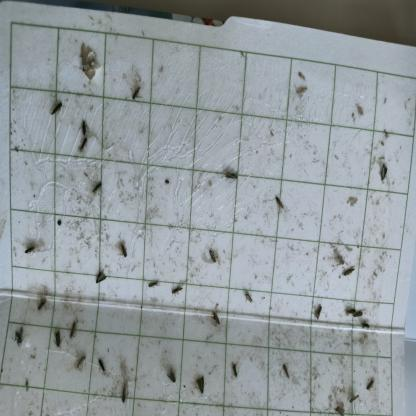prays_oleae: (74, 35, 102, 83), (309, 294, 330, 332), (89, 164, 108, 204), (162, 361, 181, 397), (92, 263, 110, 296), (338, 257, 360, 283), (127, 82, 146, 110), (74, 343, 88, 378), (20, 239, 38, 264), (222, 167, 240, 192), (280, 350, 295, 380), (50, 94, 65, 122), (210, 300, 224, 330), (376, 160, 391, 188), (33, 295, 51, 317), (75, 137, 90, 163), (117, 374, 129, 406), (144, 273, 161, 295), (66, 316, 80, 342), (331, 391, 346, 415), (10, 324, 24, 349), (241, 286, 256, 309), (205, 245, 223, 264), (192, 373, 208, 394), (76, 118, 91, 140), (117, 235, 129, 262), (272, 189, 284, 216), (168, 281, 182, 304), (50, 330, 64, 352), (229, 356, 240, 382), (96, 354, 108, 376), (360, 320, 372, 336), (343, 305, 357, 318), (354, 309, 366, 324), (367, 374, 376, 392)
